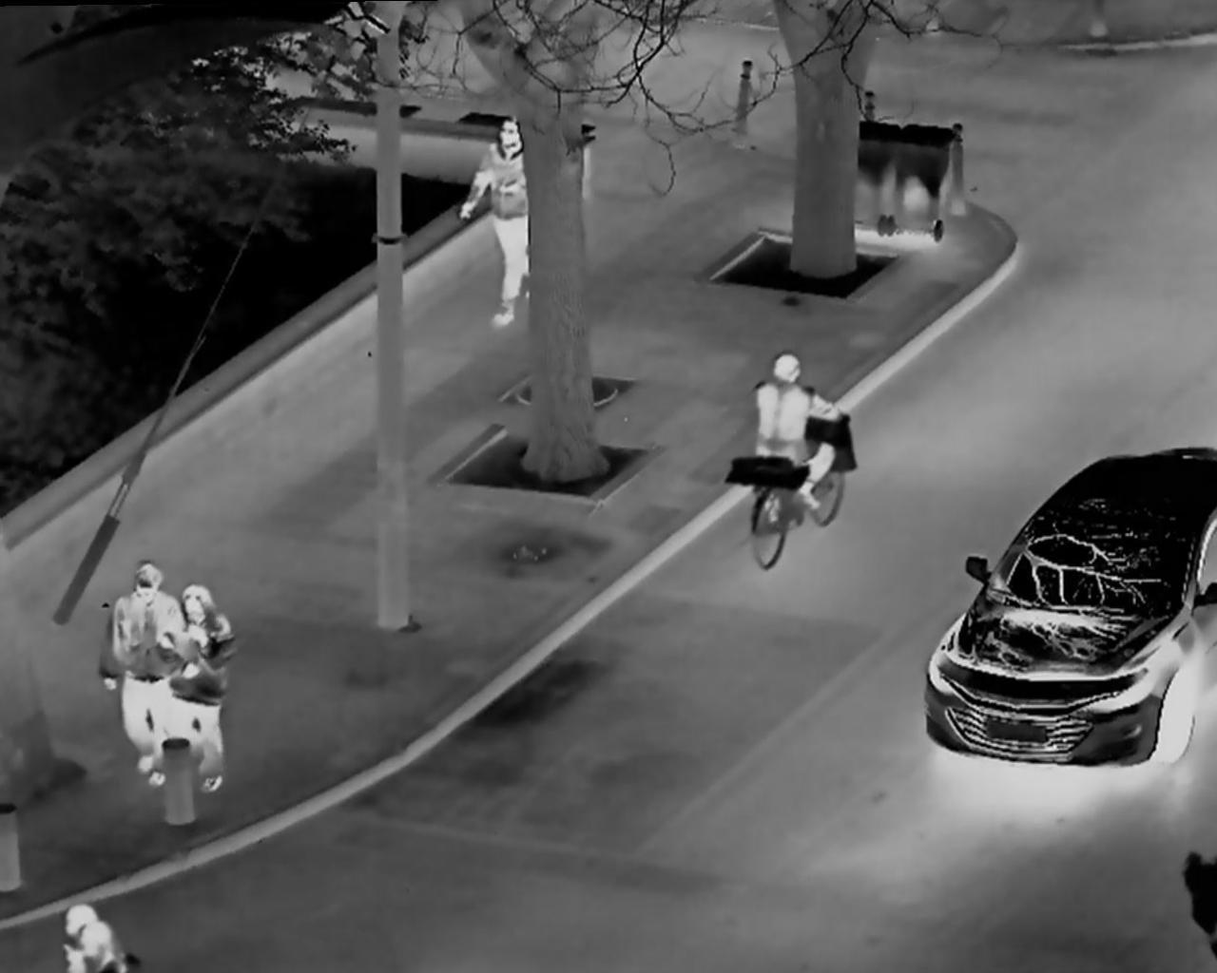person: (724, 340, 849, 563), (171, 579, 253, 824), (458, 96, 537, 330), (110, 557, 180, 794), (59, 877, 121, 973)
